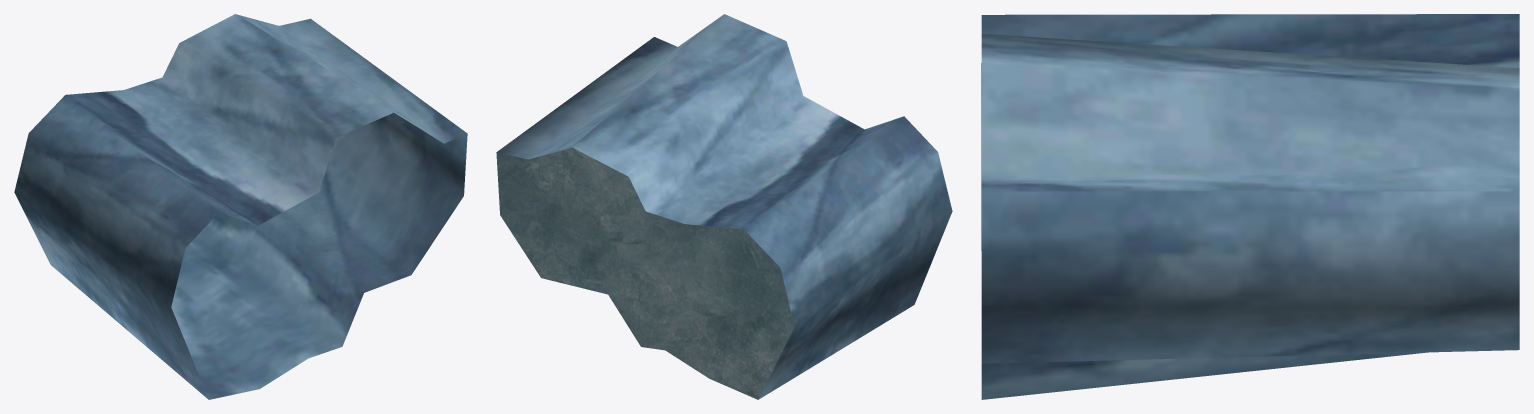
3 views of the same model, side by side, from view 1: azimuth 30°, elevation 25°; view 2: azimuth 150°, elevation 25°; view 3: azimuth 270°, elevation 25° (orthographic). The views are drawn at different scales.
Visible parts, largest first — view 1: Object07; view 2: Object07; view 3: Object07.
Part boxes in pixels (x1,y1,x2,y2): Object07: (14, 14, 467, 399); Object07: (496, 14, 952, 399); Object07: (981, 14, 1519, 399).
Size of the model in its own units: 47116 by 37136 by 43203.
